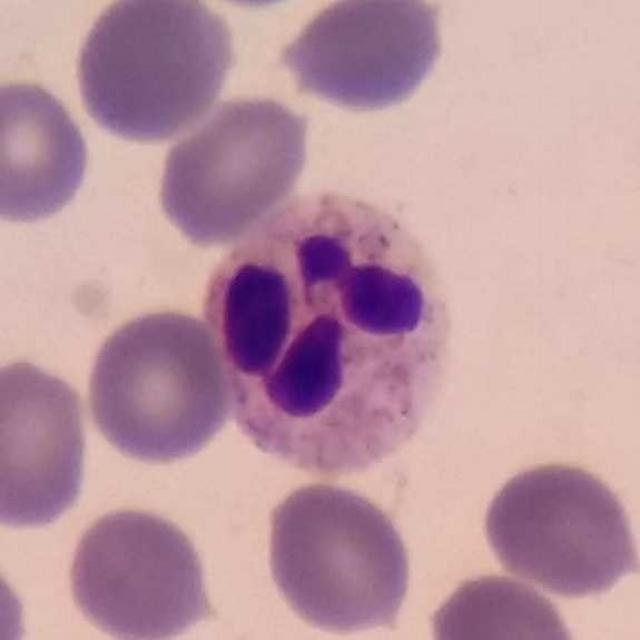Neutrophil: (201, 172, 462, 485)
RBC: (80, 302, 236, 468), (260, 476, 418, 639), (152, 89, 315, 246), (70, 0, 239, 146), (477, 453, 640, 600), (62, 501, 220, 640), (274, 0, 452, 117), (0, 352, 96, 534), (0, 74, 97, 228), (422, 569, 584, 640), (0, 550, 33, 640), (212, 0, 305, 13)
